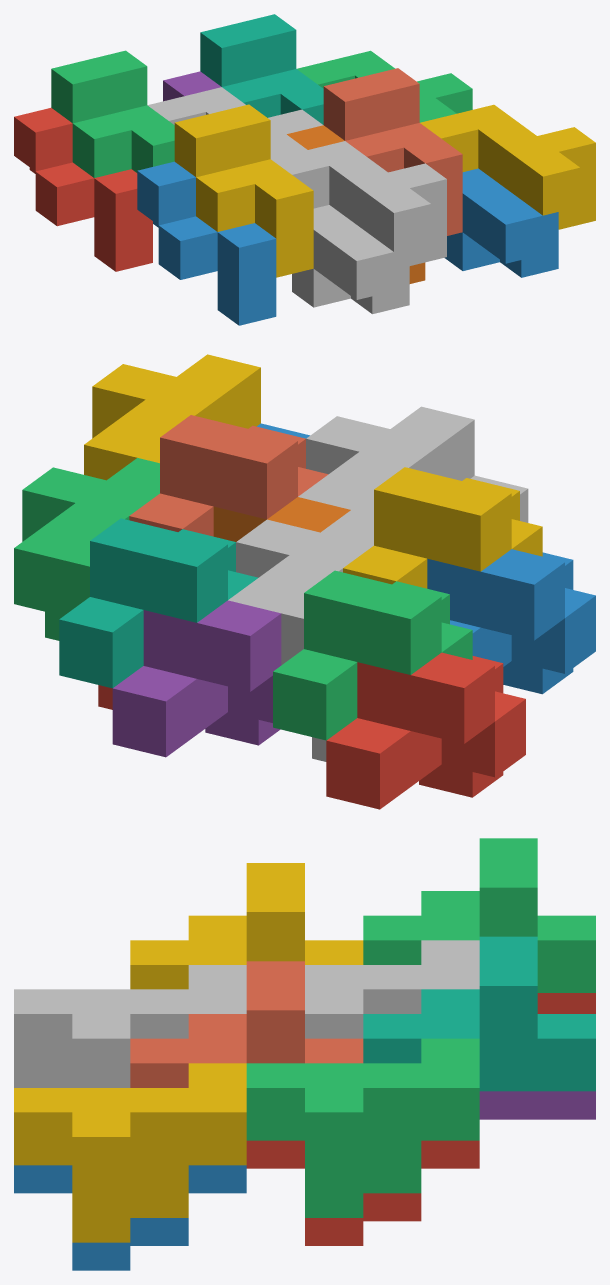
The model's file is tiling.obj.
The picture shows the model from 3 angles, top to bottom: view 1: azimuth 30°, elevation 25°; view 2: azimuth 150°, elevation 25°; view 3: azimuth 270°, elevation 25°; orthographic projection. The views are drawn at different scales.
Parts seen in each view (by area): view 1: copy_1_domain_4, copy_1_domain_2, copy_2_domain_4, copy_2_domain_8, copy_1_domain_3, copy_1_domain_1, copy_1_domain_8, copy_1_domain_7, copy_2_domain_2, copy_2_domain_6, copy_2_domain_7, copy_2_domain_3 (+2 smaller); view 2: copy_1_domain_1, copy_1_domain_5, copy_1_domain_3, copy_1_domain_7, copy_1_domain_2, copy_1_domain_4, copy_1_domain_8, copy_2_domain_7, copy_2_domain_8, copy_2_domain_4, copy_2_domain_3, copy_1_domain_6; view 3: copy_2_domain_7, copy_2_domain_8, copy_1_domain_7, copy_1_domain_3, copy_2_domain_4, copy_1_domain_8, copy_1_domain_4, copy_2_domain_3, copy_2_domain_5, copy_2_domain_6, copy_1_domain_5, copy_2_domain_2 (+1 smaller).
Boxes of the visible parts, <box> form: copy_1_domain_4: <box>174,104,313,277</box>; copy_1_domain_2: <box>137,161,276,325</box>; copy_2_domain_4: <box>271,141,446,265</box>; copy_2_domain_8: <box>420,104,595,229</box>; copy_1_domain_3: <box>51,50,174,177</box>; copy_1_domain_1: <box>14,108,152,271</box>; copy_1_domain_8: <box>323,68,462,235</box>; copy_1_domain_7: <box>200,14,323,124</box>; copy_2_domain_2: <box>292,205,409,314</box>; copy_2_domain_6: <box>444,168,558,277</box>; copy_2_domain_7: <box>297,50,472,122</box>; copy_2_domain_3: <box>147,87,323,158</box>; copy_1_domain_1: <box>326,652,525,809</box>; copy_1_domain_5: <box>112,600,281,757</box>; copy_1_domain_3: <box>273,570,472,740</box>; copy_1_domain_7: <box>59,518,258,688</box>; copy_1_domain_2: <box>427,549,595,694</box>; copy_1_domain_4: <box>343,467,542,588</box>; copy_1_domain_8: <box>129,415,327,536</box>; copy_2_domain_7: <box>14,458,159,640</box>; copy_2_domain_8: <box>84,354,260,480</box>; copy_2_domain_4: <box>298,406,474,515</box>; copy_2_domain_3: <box>228,510,373,665</box>; copy_1_domain_6: <box>213,497,350,541</box>; copy_2_domain_7: <box>246,1038,479,1217</box>; copy_2_domain_8: <box>14,1063,246,1242</box>; copy_1_domain_7: <box>363,936,595,1091</box>; copy_1_domain_3: <box>363,838,595,992</box>; copy_2_domain_4: <box>14,965,246,1087</box>; copy_1_domain_8: <box>130,961,363,1087</box>; copy_1_domain_4: <box>130,863,363,989</box>; copy_2_domain_3: <box>305,940,479,1038</box>; copy_2_domain_5: <box>246,1140,479,1245</box>; copy_2_domain_6: <box>14,1165,246,1270</box>; copy_1_domain_5: <box>479,1091,595,1119</box>; copy_2_domain_2: <box>14,1066,72,1087</box>.
Bounding box in the file's own units: 11 × 4 × 10.
